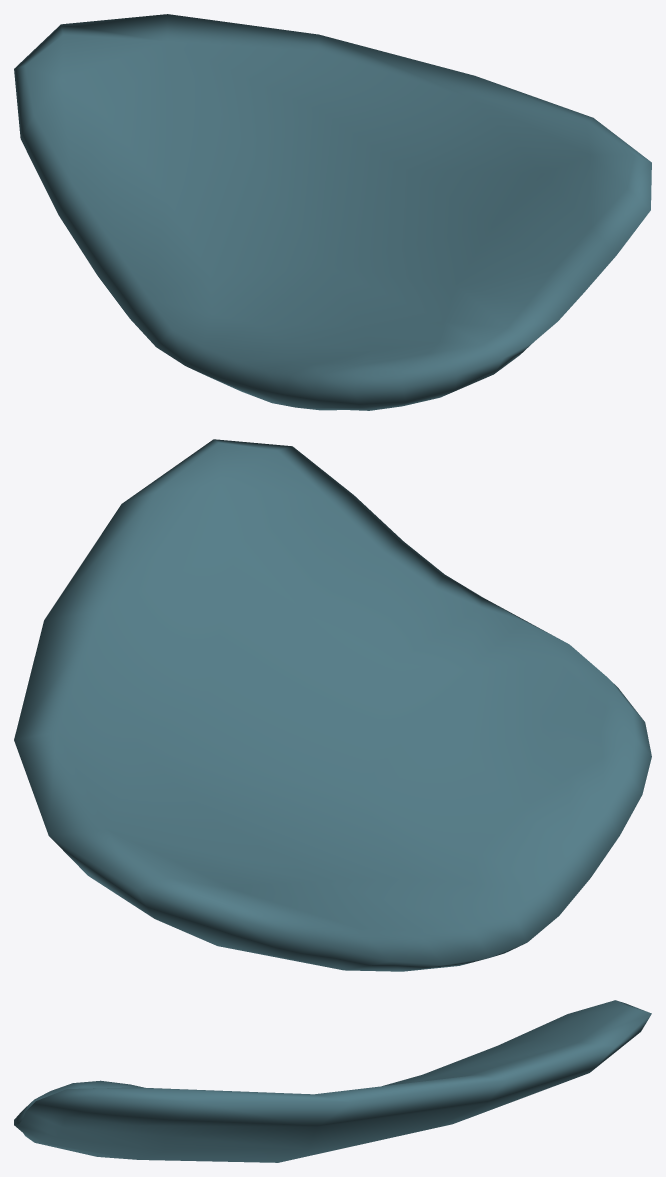
File: Flexor_hallucis_brevis_proximal_phalanx_1st_left.glb
3 renders of one model, top to bottom at view 1: azimuth 30°, elevation 25°; view 2: azimuth 150°, elevation 25°; view 3: azimuth 270°, elevation 25°, orthographic. The views are drawn at different scales.
Parts seen in each view (by area): view 1: Lat._head_of_flex._hallucis_brevis_on_prox._phal._of_1st.l_G; view 2: Lat._head_of_flex._hallucis_brevis_on_prox._phal._of_1st.l_G; view 3: Lat._head_of_flex._hallucis_brevis_on_prox._phal._of_1st.l_G.
Part boxes in pixels (x1=…): Lat._head_of_flex._hallucis_brevis_on_prox._phal._of_1st.l_G: x1=14, y1=14, x2=651, y2=410; Lat._head_of_flex._hallucis_brevis_on_prox._phal._of_1st.l_G: x1=14, y1=439, x2=651, y2=971; Lat._head_of_flex._hallucis_brevis_on_prox._phal._of_1st.l_G: x1=14, y1=1000, x2=651, y2=1162.
Bounding box in the file's own units: 0.00419 × 0.00228 × 0.00718.
